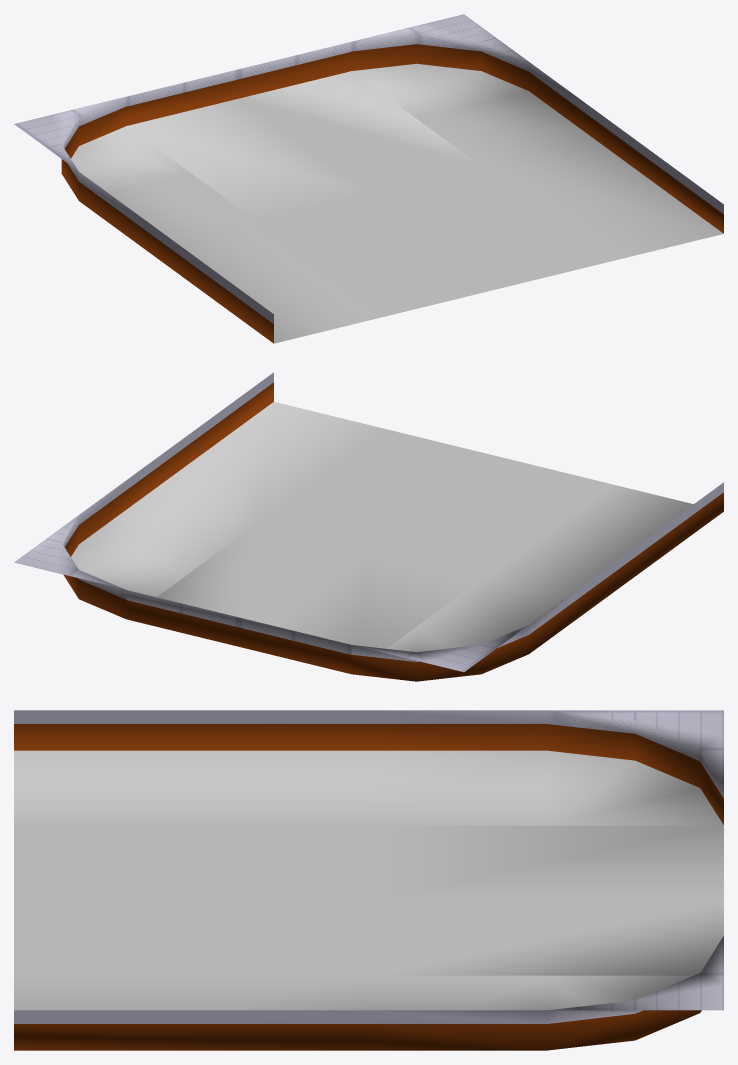
The model's file is water_2.dae.
3 renders of one model, top to bottom at view 1: azimuth 30°, elevation 25°; view 2: azimuth 150°, elevation 25°; view 3: azimuth 270°, elevation 25°, orthographic. The views are drawn at different scales.
Parts seen in each view (by area): view 1: Regroup01, Regroup04, Regroup03, Regroup02; view 2: Regroup01, Regroup04, Regroup03, Regroup02; view 3: Regroup01, Regroup04, Regroup03, Regroup02.
Part boxes in pixels (bbox=[...]): Regroup01: bbox=[71, 63, 723, 343]; Regroup04: bbox=[61, 44, 723, 343]; Regroup03: bbox=[61, 34, 723, 323]; Regroup02: bbox=[14, 14, 528, 171]; Regroup01: bbox=[71, 402, 693, 652]; Regroup04: bbox=[63, 382, 723, 681]; Regroup03: bbox=[61, 372, 723, 661]; Regroup02: bbox=[14, 515, 527, 672]; Regroup01: bbox=[14, 750, 723, 1010]; Regroup04: bbox=[14, 724, 723, 1050]; Regroup03: bbox=[14, 710, 723, 1023]; Regroup02: bbox=[548, 710, 723, 1010].
Size of the model in its own units: 16 by 0.9997 by 16.
